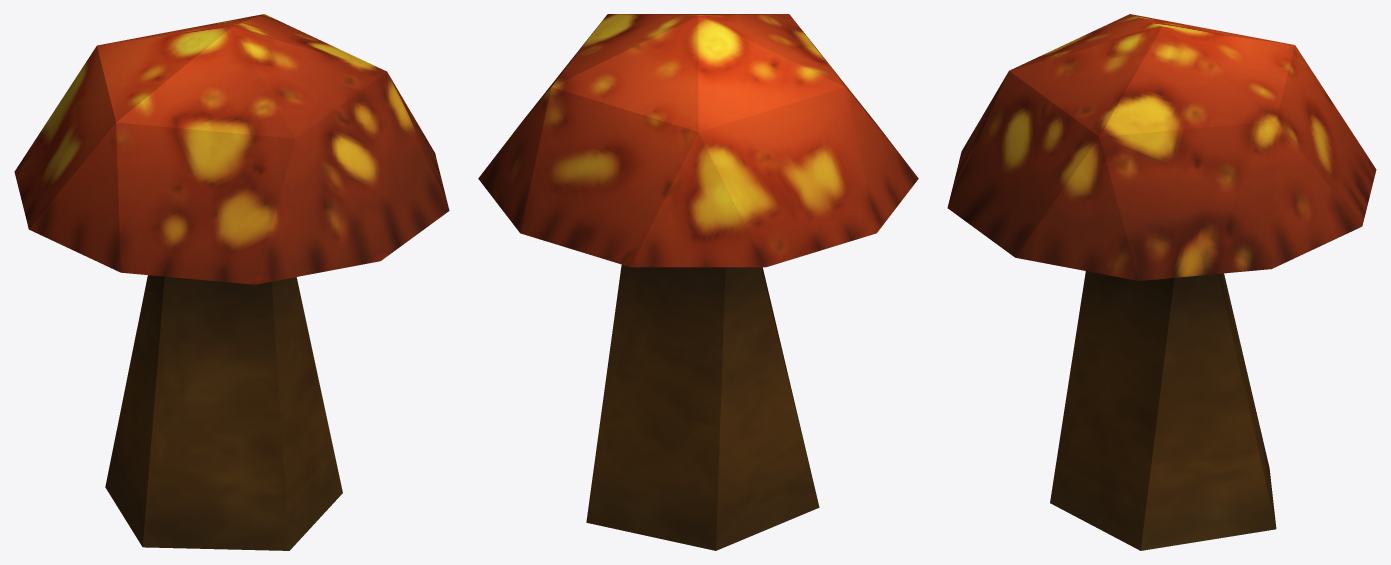
File: mush7.fbx
3 renders of one model, left to right at view 1: azimuth 30°, elevation 25°; view 2: azimuth 150°, elevation 25°; view 3: azimuth 270°, elevation 25°, orthographic.
Visible parts, largest first — view 1: shrooms7; view 2: shrooms7; view 3: shrooms7.
Boxes of the visible parts, x1,y1,x2,y2 form: shrooms7: (14,14,449,550); shrooms7: (478,14,918,550); shrooms7: (947,14,1376,550).
Size of the model in its own units: 876 by 1054 by 861.
Materials: 1 (1 with a texture image).
